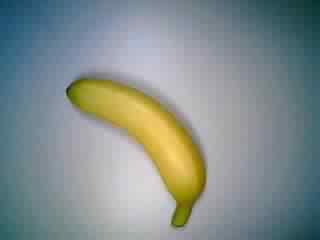banana: (63, 73, 211, 228)
